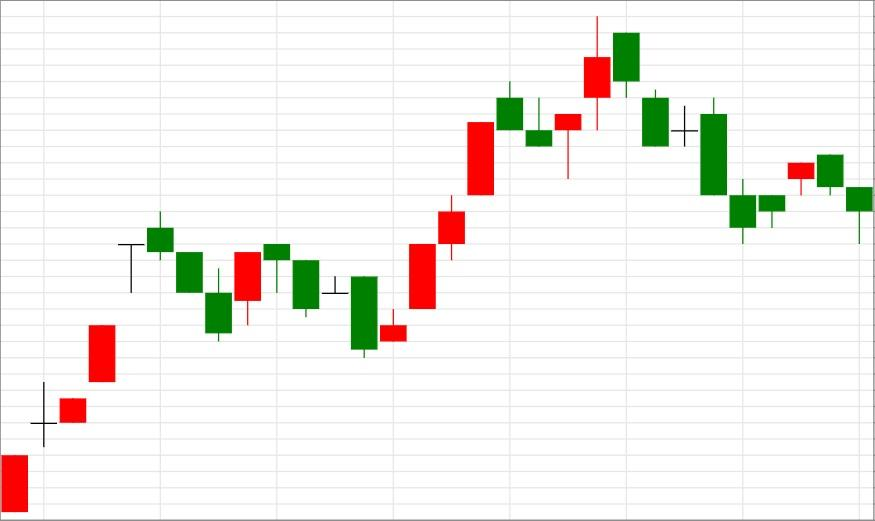three_black_crows_fall: (0, 212, 232, 512)
three_white_soldiers_rise: (262, 194, 466, 357)
